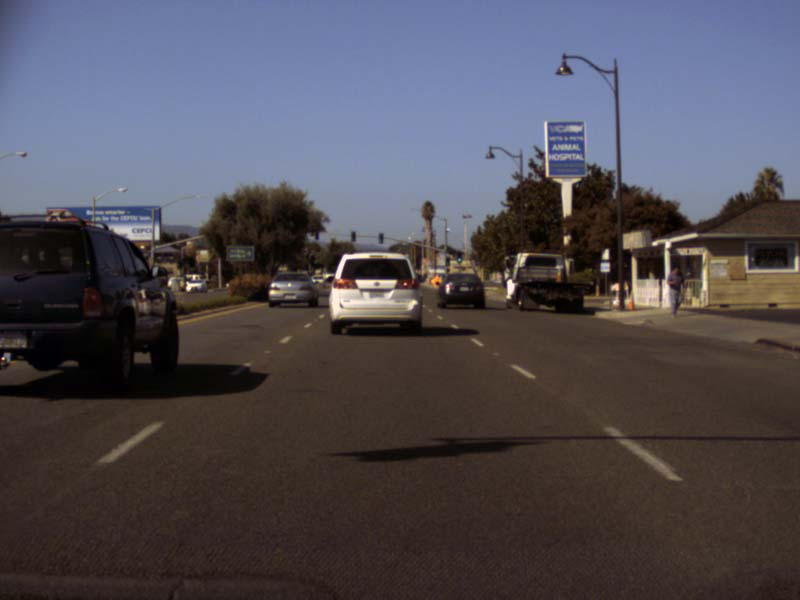Green: (378, 231, 383, 244), (350, 230, 355, 242), (456, 252, 461, 263), (446, 257, 449, 266)
